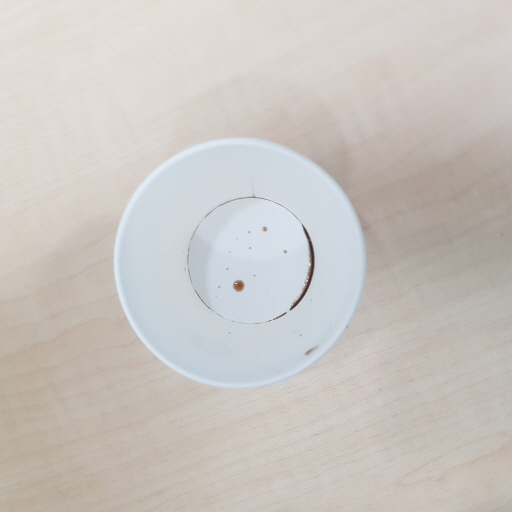Paper_1: (110, 137, 371, 384)
